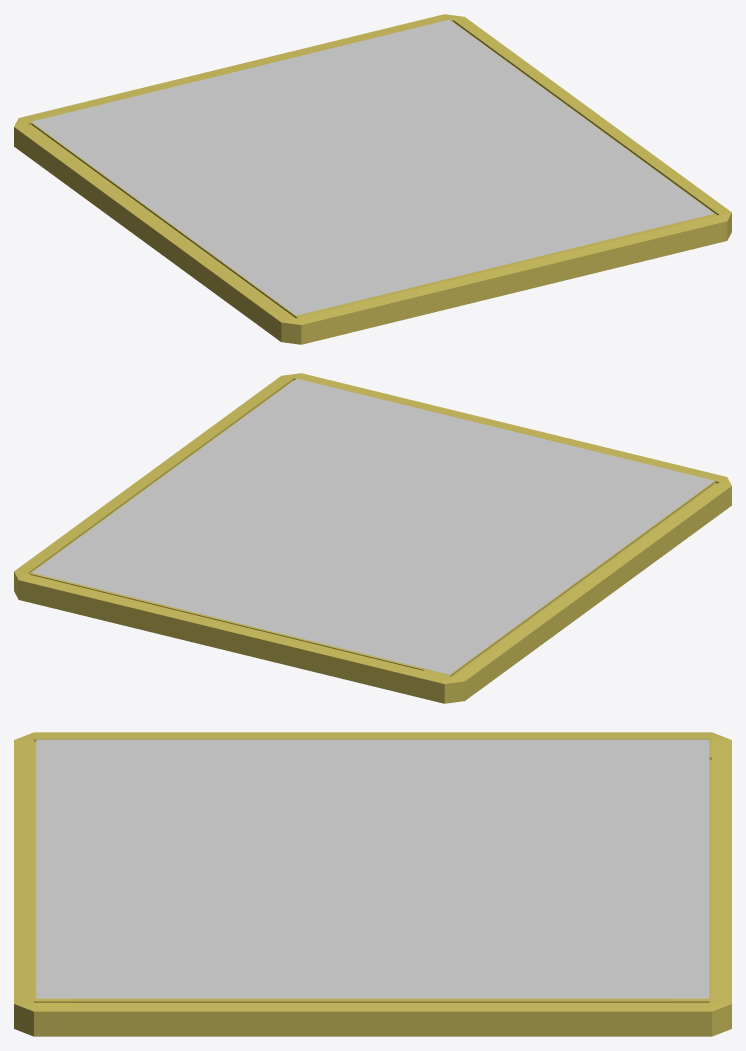
File: ludo.fbx
3 renders of one model, top to bottom at view 1: azimuth 30°, elevation 25°; view 2: azimuth 150°, elevation 25°; view 3: azimuth 270°, elevation 25°, orthographic. The views are drawn at different scales.
Visible parts, largest first — view 1: Plane, Cube; view 2: Plane, Cube; view 3: Plane, Cube.
Boxes of the visible parts, bbox=[...] form: Plane: bbox=[31, 19, 713, 315]; Cube: bbox=[14, 14, 731, 344]; Plane: bbox=[32, 378, 714, 674]; Cube: bbox=[14, 373, 731, 703]; Plane: bbox=[36, 739, 709, 998]; Cube: bbox=[14, 732, 731, 1036].
Bounding box in the file's own units: 5.29 × 0.2498 × 5.75.
